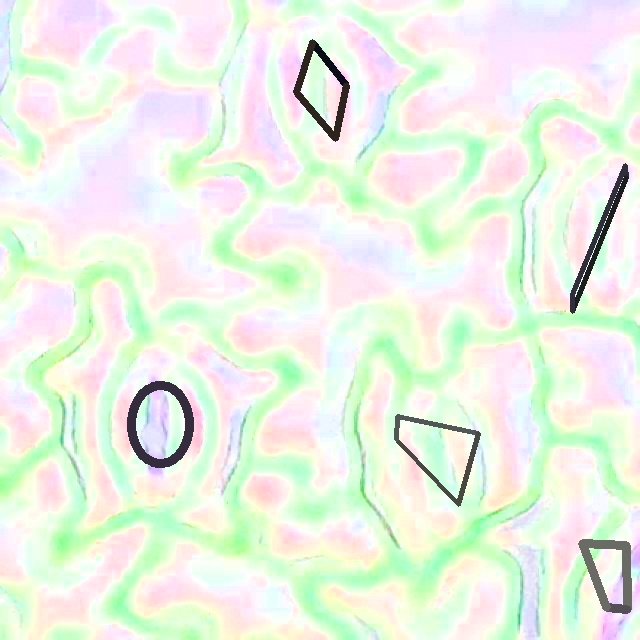close: (570, 163, 628, 313), (395, 414, 480, 505)
open: (126, 381, 193, 468), (293, 39, 349, 141), (578, 541, 631, 611)
